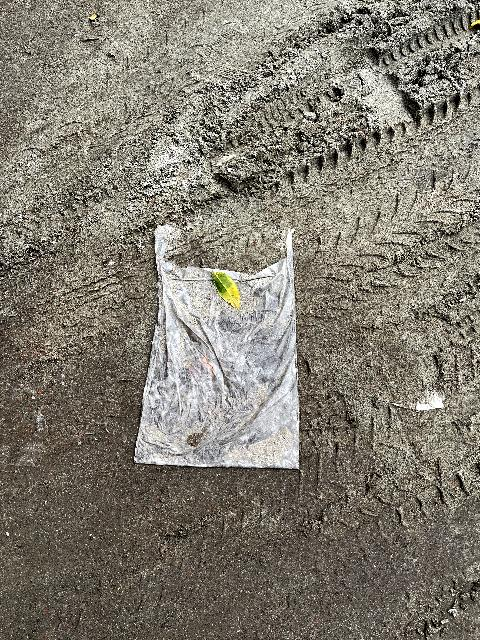polythene: (139, 216, 306, 509)
